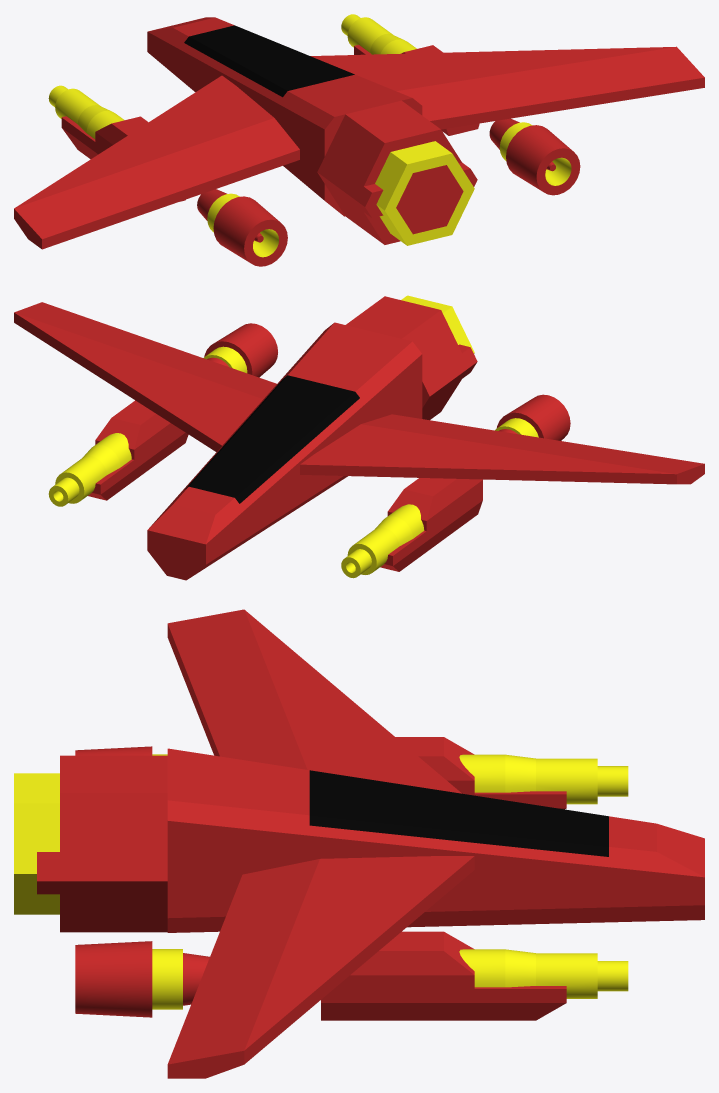
The model's file is PlayerShip.glb.
The picture shows the model from 3 angles, top to bottom: view 1: azimuth 30°, elevation 25°; view 2: azimuth 150°, elevation 25°; view 3: azimuth 270°, elevation 25°; orthographic projection. The views are drawn at different scales.
Visible parts, largest first — view 1: mergedBlocks(Clone); view 2: mergedBlocks(Clone); view 3: mergedBlocks(Clone).
Boxes of the visible parts, x1=… form: mergedBlocks(Clone): x1=14, y1=14, x2=704, y2=266; mergedBlocks(Clone): x1=14, y1=295, x2=704, y2=580; mergedBlocks(Clone): x1=14, y1=609, x2=704, y2=1078.
Size of the model in its own units: 6.8 by 1 by 4.5.
